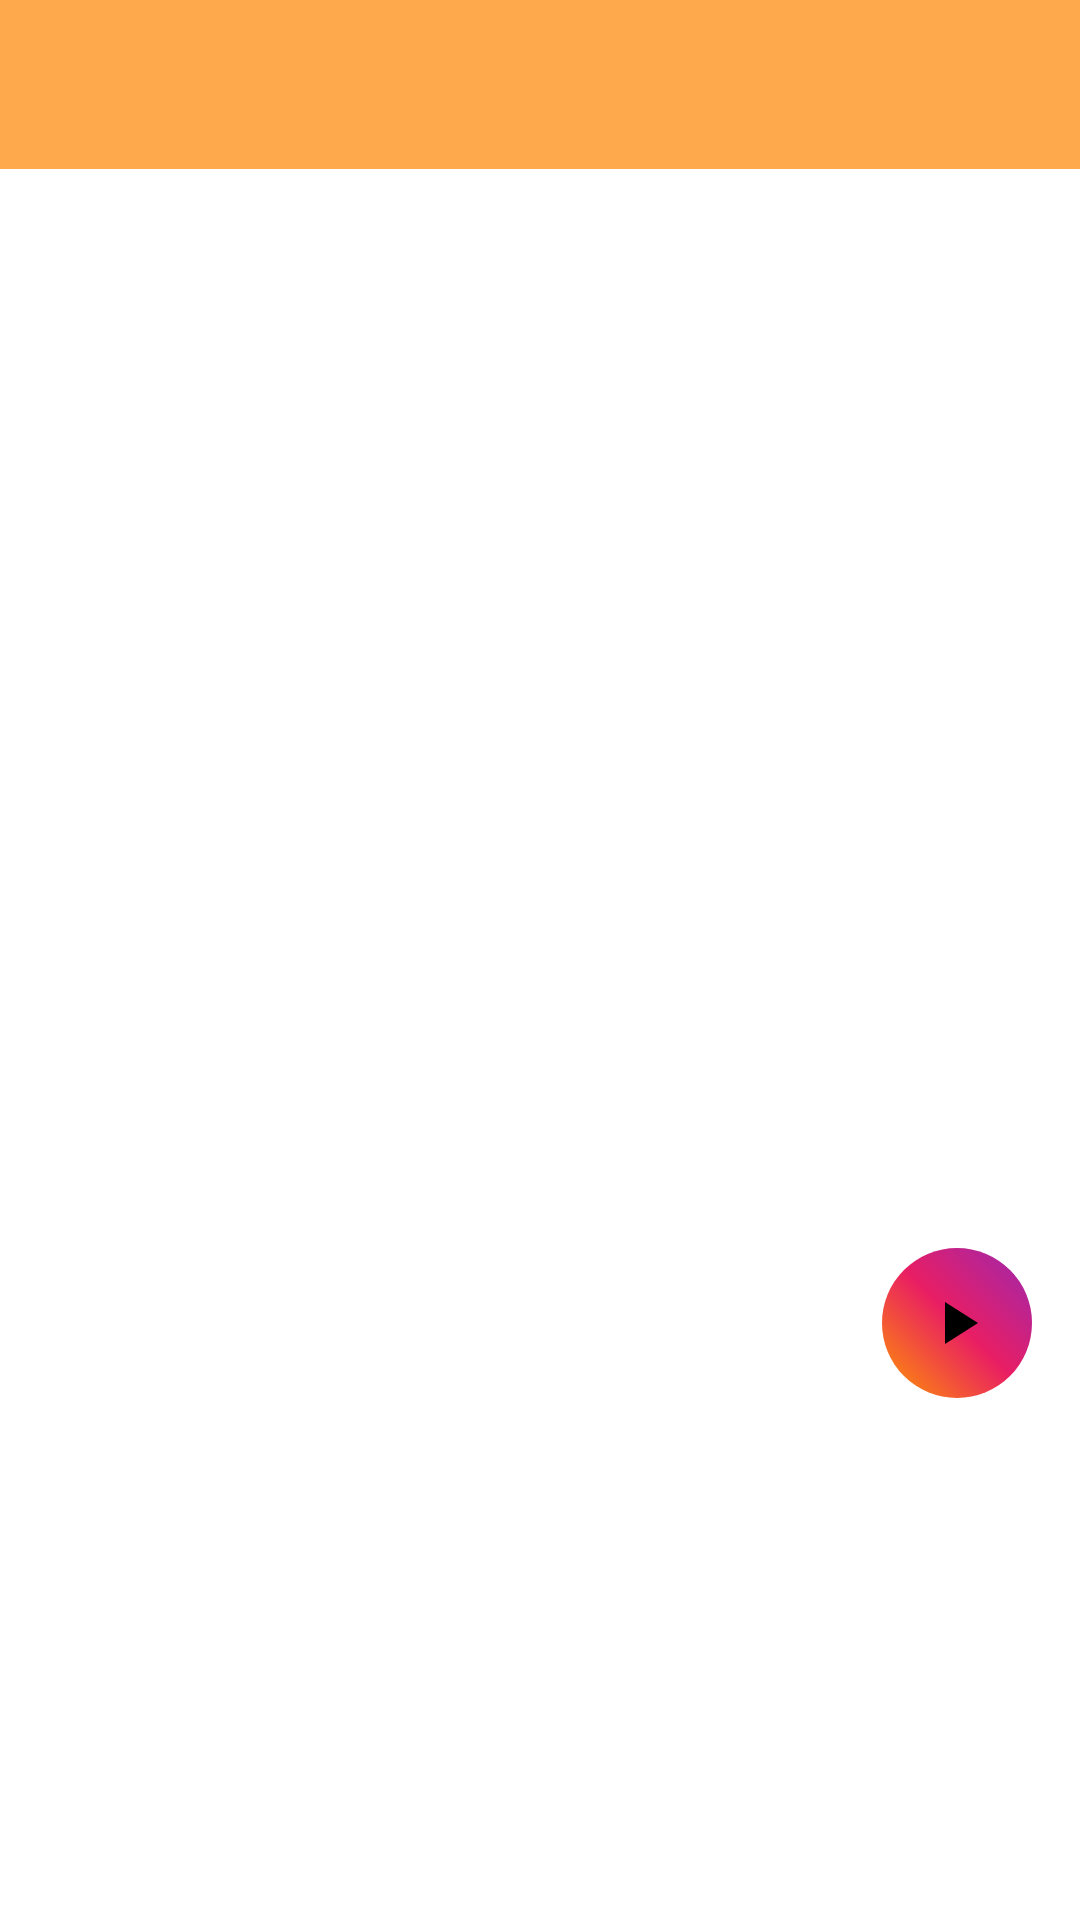

Named icons in this screenshot (1080*1920) and their centers, [x,y]:
Play playlist: [957,1323]
